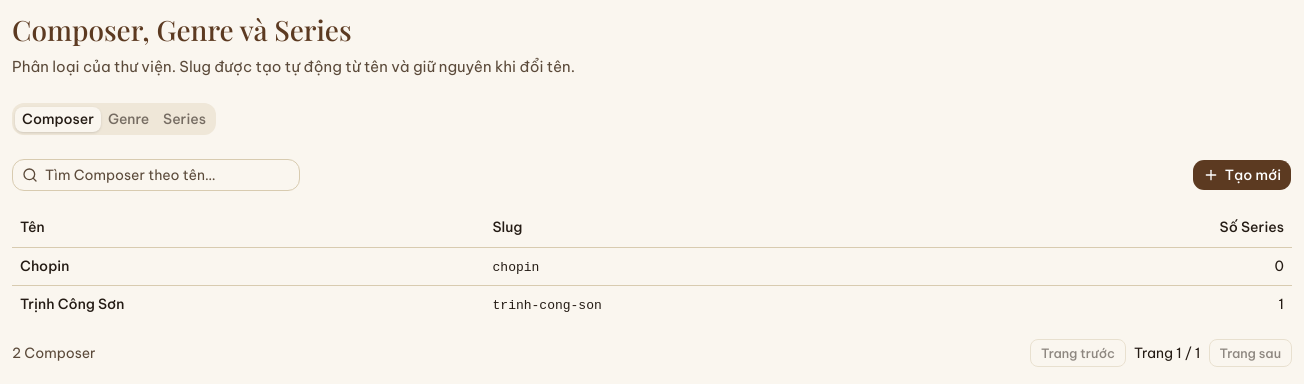
Test: Trang /taxonomy — tab Composer › có 3 tab; list Composer; tìm "trinh" gọi API với q (debounce) và chỉ hiện kết quả khớp
expect the tab "Composer" is shown: met, box left=15, top=106, right=101, bottom=132
expect the tab "Genre" is shown: met, box left=101, top=106, right=156, bottom=132
Type "trinh" into the search field labelled "Tìm Composer theo tên" at (156, 175), box left=12, top=159, right=300, bottom=191
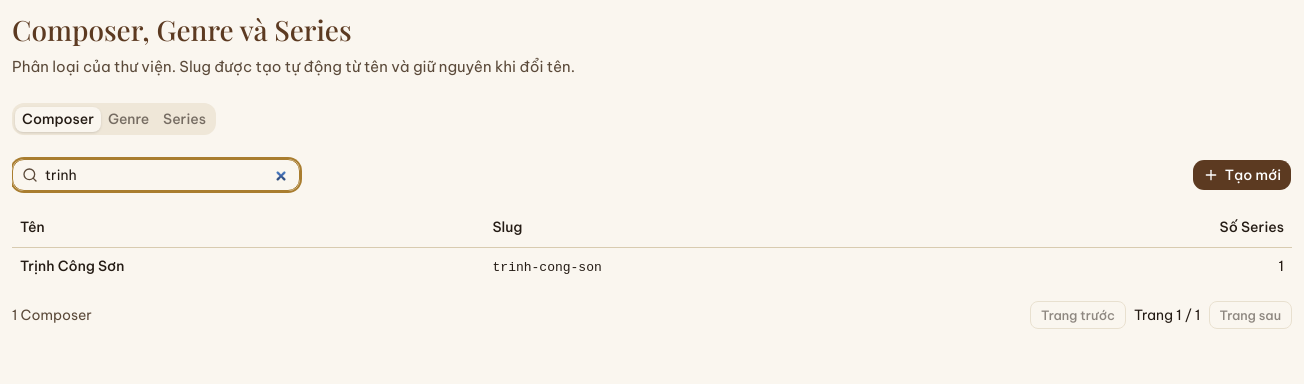
expect the text "Trịnh Công Sơn" is shown: met, box left=12, top=247, right=484, bottom=285
expect the text "Chopin" is gone: met
